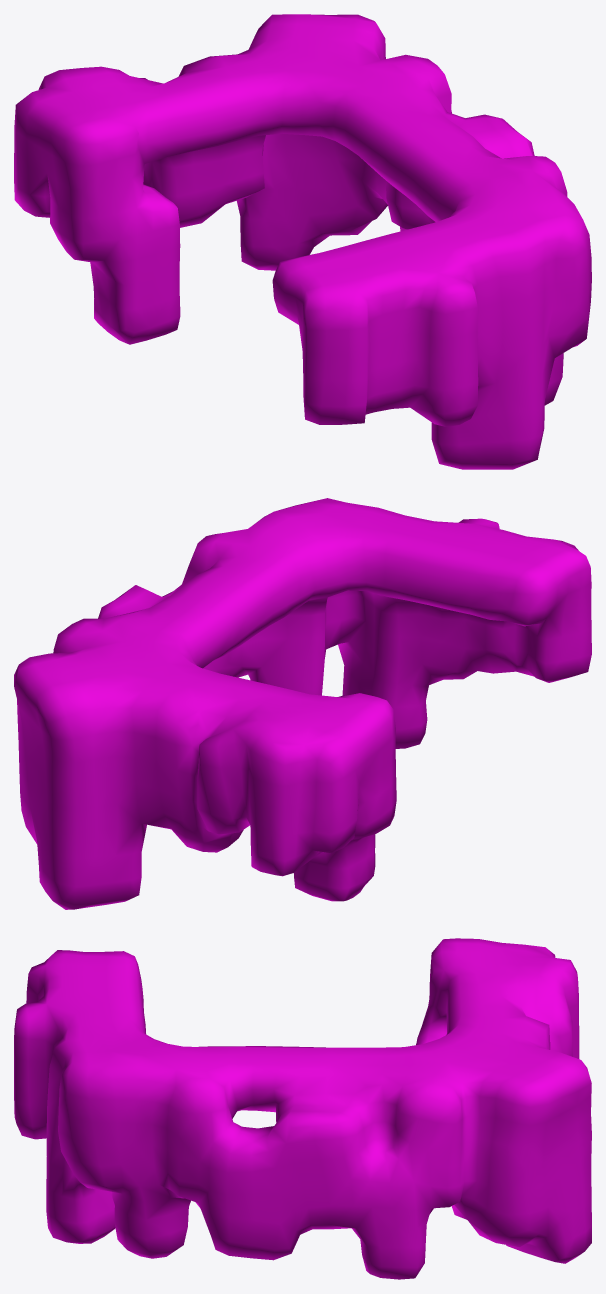
File: platform_U.fbx
The picture shows the model from 3 angles, top to bottom: view 1: azimuth 30°, elevation 25°; view 2: azimuth 150°, elevation 25°; view 3: azimuth 270°, elevation 25°; orthographic projection. The views are drawn at different scales.
Parts seen in each view (by area): view 1: platform_U; view 2: platform_U; view 3: platform_U.
Part boxes in pixels (<box>): platform_U: <box>14,14,591,469</box>; platform_U: <box>14,498,591,909</box>; platform_U: <box>14,938,591,1279</box>.
Bounding box in the file's own units: 40 × 24.06 × 60.01.
